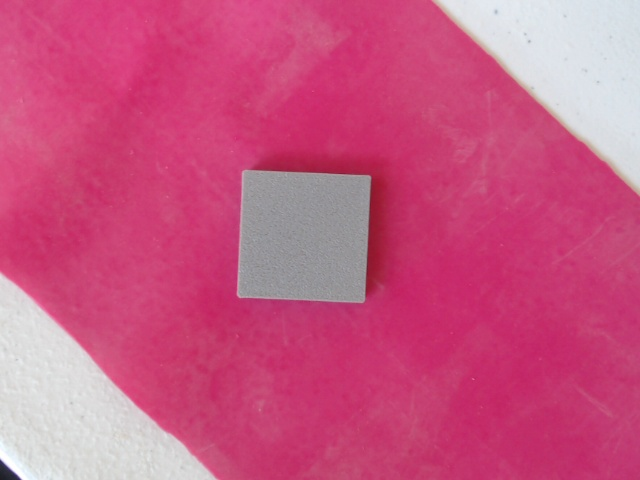Defective: (235, 165, 372, 306)
